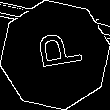P_W: (27, 32, 83, 78)
